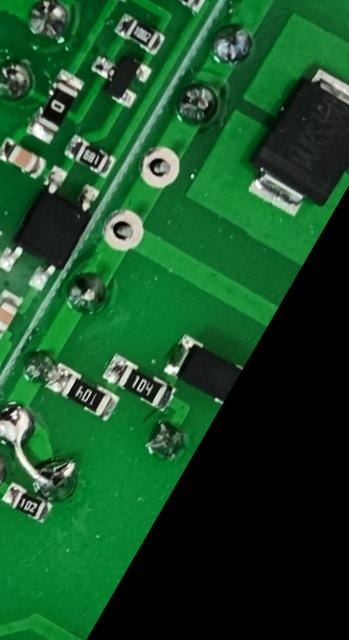chip-capacitor: (0, 135, 49, 184), (0, 286, 25, 345)
chip-resistor: (97, 349, 182, 417), (41, 360, 123, 426), (23, 66, 87, 148), (59, 130, 120, 182), (110, 9, 168, 59), (0, 477, 55, 529)
diode: (231, 58, 349, 233), (159, 330, 244, 407)
ic: (0, 160, 108, 298)
transistor: (78, 38, 155, 114)
